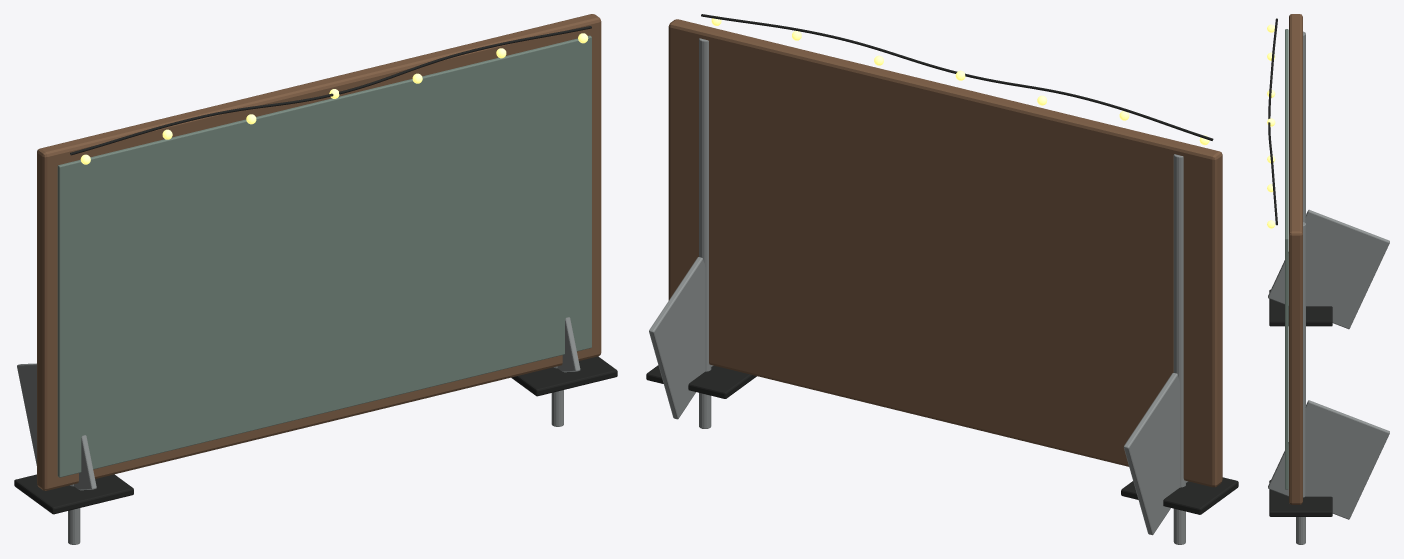
File: team-backstage.glb
3 renders of one model, left to right at view 1: azimuth 30°, elevation 25°; view 2: azimuth 150°, elevation 25°; view 3: azimuth 270°, elevation 25°, orthographic. The views are drawn at different scales.
Parts seen in each view (by area): view 1: BOARD_team_surface, BOARD_team_backing, BOARD_foot_-3.55, BOARD_foot_3.55, BOARD_string_cable, BOARD_brace_-3.55; view 2: BOARD_team_backing, BOARD_brace_3.55, BOARD_brace_-3.55, BOARD_post_-3.55, BOARD_post_3.55, BOARD_foot_-3.55, BOARD_string_cable, BOARD_foot_3.55; view 3: BOARD_brace_3.55, BOARD_brace_-3.55, BOARD_team_backing, BOARD_team_surface, BOARD_foot_3.55, BOARD_post_3.55, BOARD_foot_-3.55, BOARD_string_cable, BOARD_post_-3.55.
Part boxes in pixels (left/top/right/bottom): BOARD_team_surface: left=57, top=35, right=591, bottom=477; BOARD_team_backing: left=37, top=14, right=601, bottom=490; BOARD_foot_-3.55: left=14, top=474, right=133, bottom=514; BOARD_foot_3.55: left=511, top=356, right=617, bottom=396; BOARD_string_cable: left=70, top=26, right=591, bottom=155; BOARD_brace_-3.55: left=17, top=363, right=96, bottom=490; BOARD_team_backing: left=668, top=19, right=1222, bottom=487; BOARD_brace_3.55: left=649, top=257, right=713, bottom=419; BOARD_brace_-3.55: left=1123, top=373, right=1187, bottom=535; BOARD_post_-3.55: left=1173, top=154, right=1185, bottom=544; BOARD_post_3.55: left=699, top=38, right=711, bottom=428; BOARD_foot_-3.55: left=1121, top=477, right=1238, bottom=514; BOARD_string_cable: left=701, top=14, right=1213, bottom=140; BOARD_foot_3.55: left=646, top=365, right=756, bottom=398; BOARD_brace_3.55: left=1268, top=400, right=1389, bottom=519; BOARD_brace_-3.55: left=1268, top=209, right=1389, bottom=329; BOARD_team_backing: left=1289, top=14, right=1302, bottom=504; BOARD_team_surface: left=1285, top=29, right=1288, bottom=489; BOARD_foot_3.55: left=1269, top=480, right=1332, bottom=516; BOARD_post_3.55: left=1296, top=222, right=1305, bottom=544; BOARD_foot_-3.55: left=1269, top=289, right=1332, bottom=326; BOARD_string_cable: left=1268, top=18, right=1277, bottom=225; BOARD_post_-3.55: left=1303, top=31, right=1305, bottom=222.
Size of the model in its own units: 8.3 by 5.79 by 1.93.
